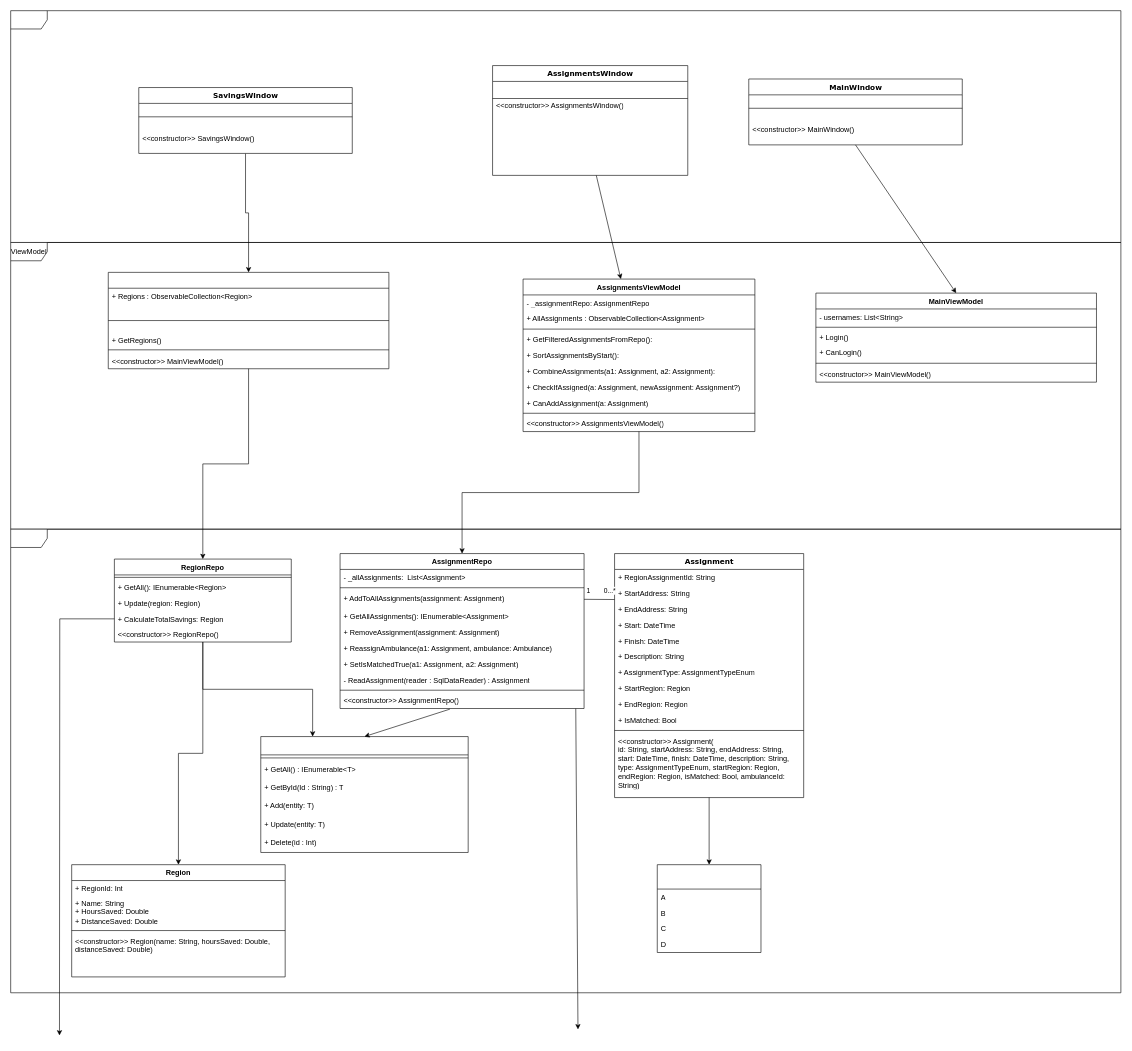
Some shapes in this 1132 by 1051 pixel diagram are drawn without their labels. Each missing label, with the box of its shape:
<<enum>> AssignmentTypeEnum: (657, 864, 761, 953)
IRepository: (260, 736, 468, 852)
Model: (10, 529, 1121, 993)
SavingsViewModel: (108, 272, 389, 369)
View: (10, 10, 1121, 242)
